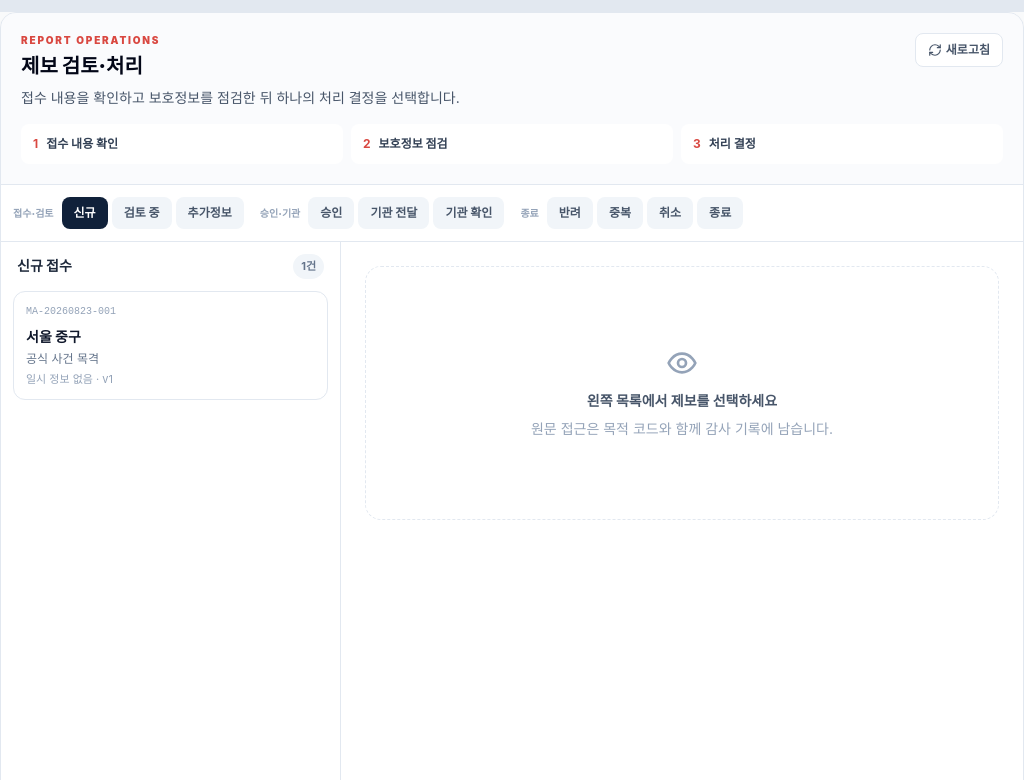
Test: ReportsModerationV2 decision flow › shows a safe date fallback and full approved location text without a summary editor
Click the button "MA-20260823-001 서울 중구 공식 사건 목격 일시 정보 없음 · v1" at (71, 311), box [13,290,328,400]
(page scrolled)
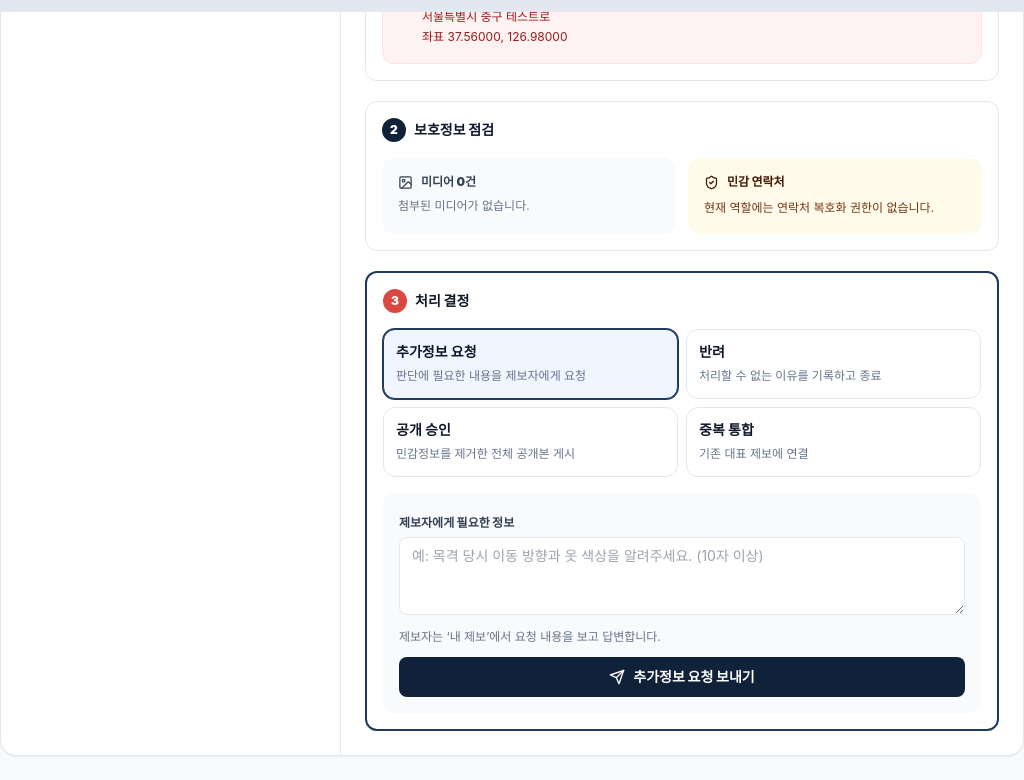
Click the button "공개 승인 민감정보를 제거한 전체 공개본 게시" at (423, 430), box [383,407,678,477]
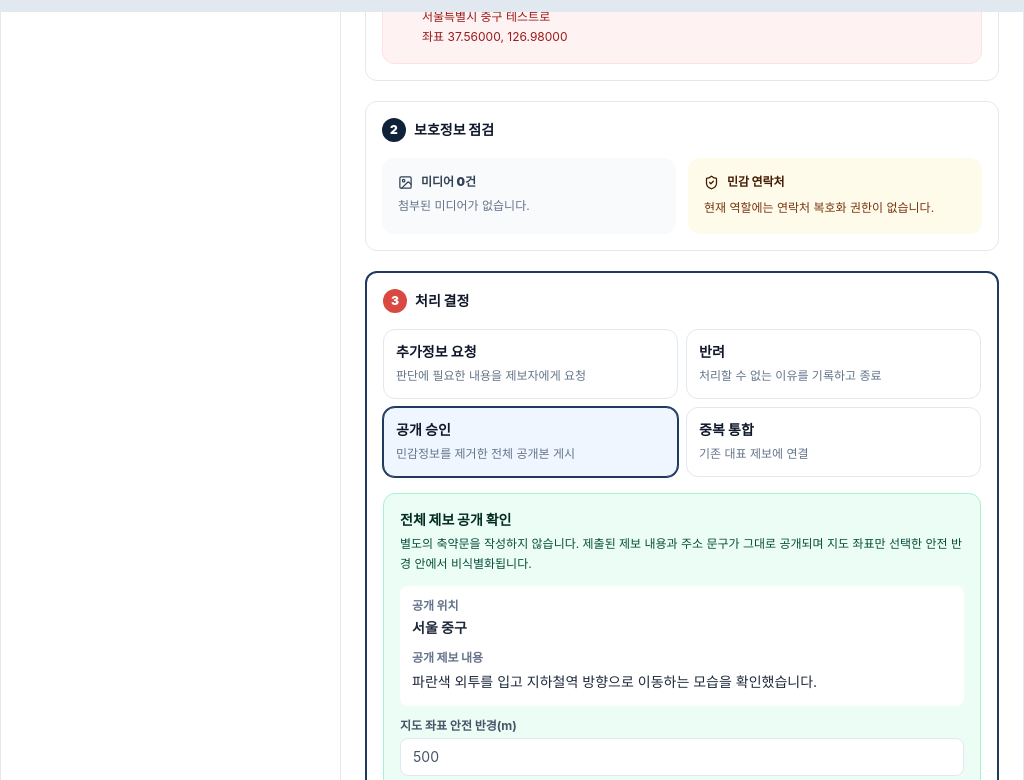
Expected: the text "별도의 축약문을 작성하지 않습니다" is shown, [400,536,962,571]
